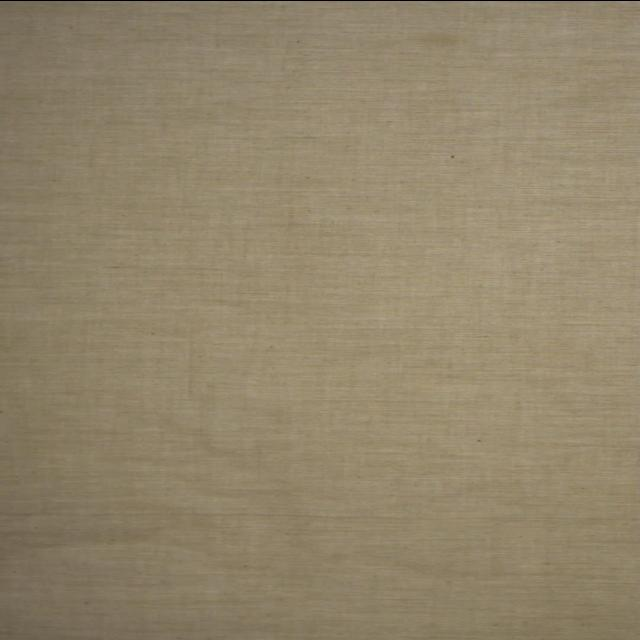dirty: (412, 34, 458, 48)
